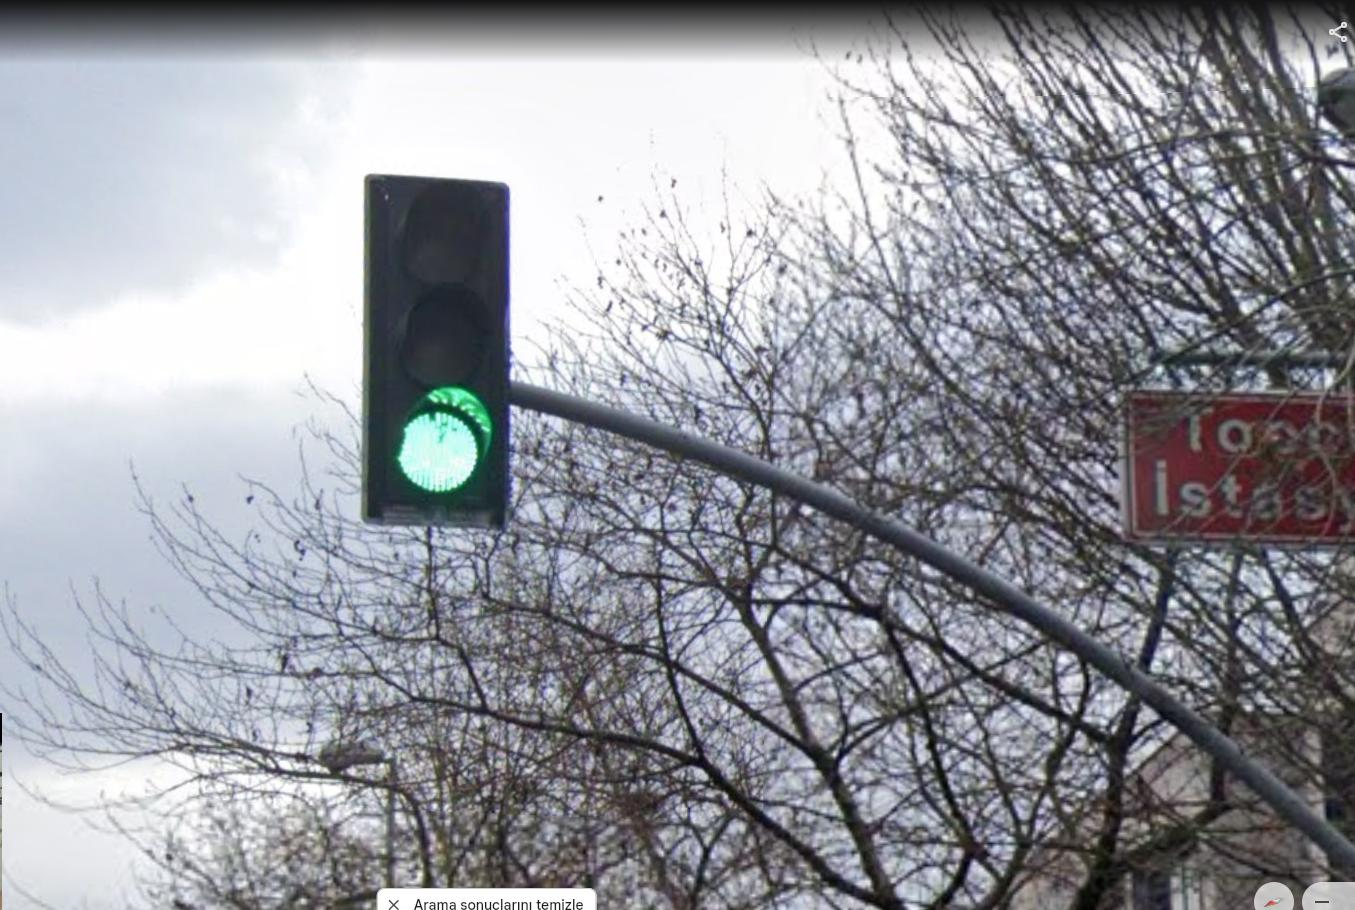greenlight: (351, 159, 543, 554)
